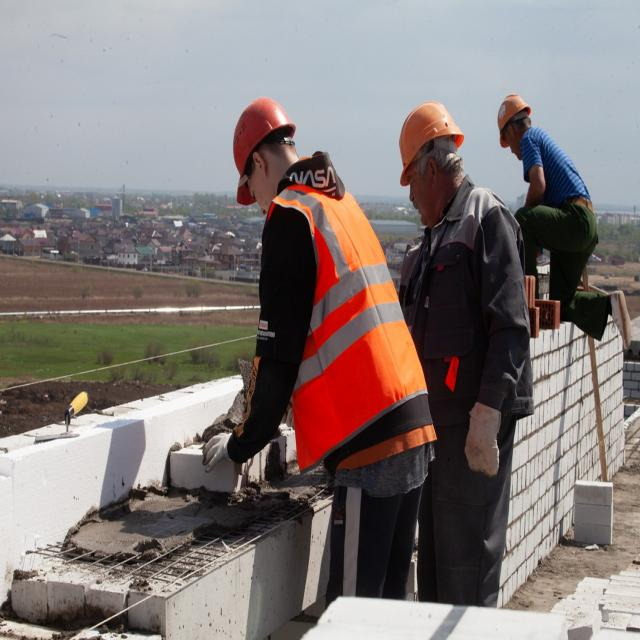Helmet: (235, 98, 297, 205), (397, 100, 466, 186), (498, 95, 533, 153)
Jacket: (278, 174, 407, 450), (418, 190, 506, 457)
